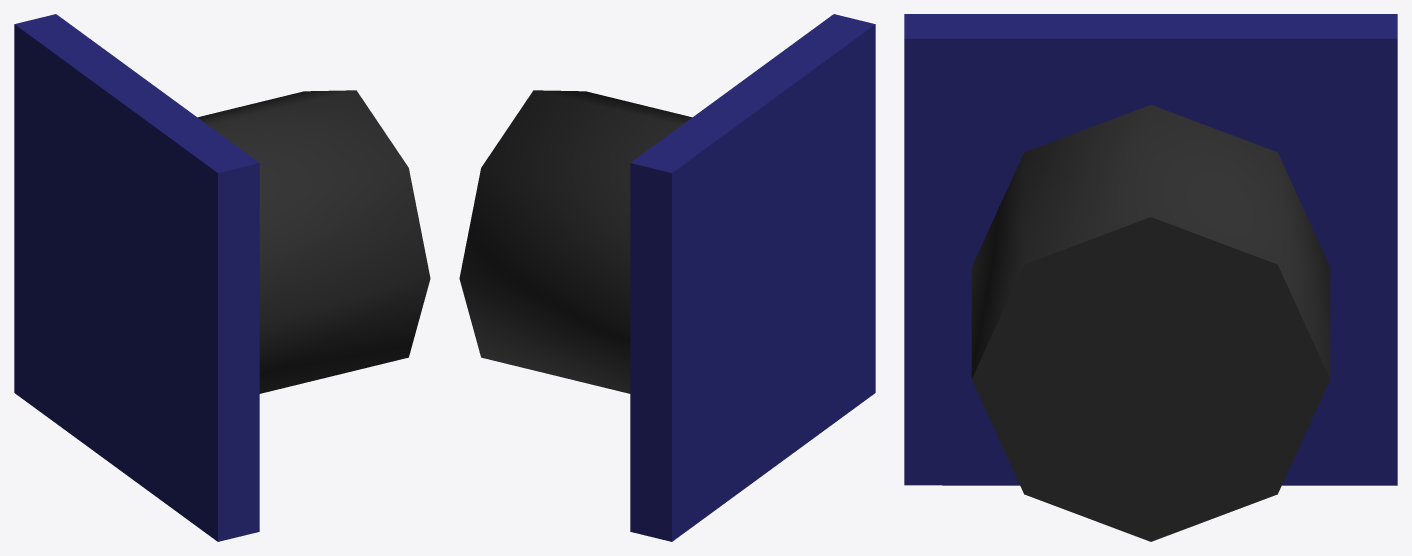
File: microphone.dae
3 renders of one model, left to right at view 1: azimuth 30°, elevation 25°; view 2: azimuth 150°, elevation 25°; view 3: azimuth 270°, elevation 25°, orthographic. The views are drawn at different scales.
Visible parts, largest first — view 1: Plane; view 2: Plane; view 3: Plane.
Part boxes in pixels (left/top/right/bottom): Plane: left=14, top=14, right=430, bottom=541; Plane: left=459, top=14, right=875, bottom=541; Plane: left=904, top=14, right=1397, bottom=541.
Bounding box in the file's own units: 0.015 × 0.022 × 0.022.
